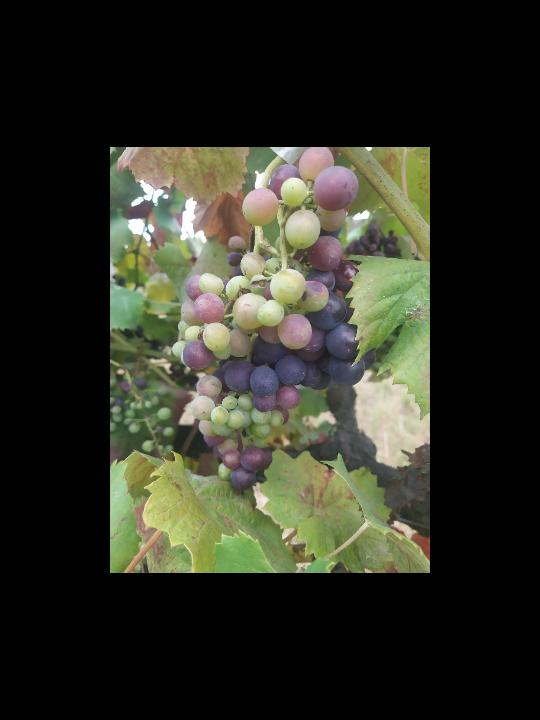grape: (174, 149, 375, 490)
